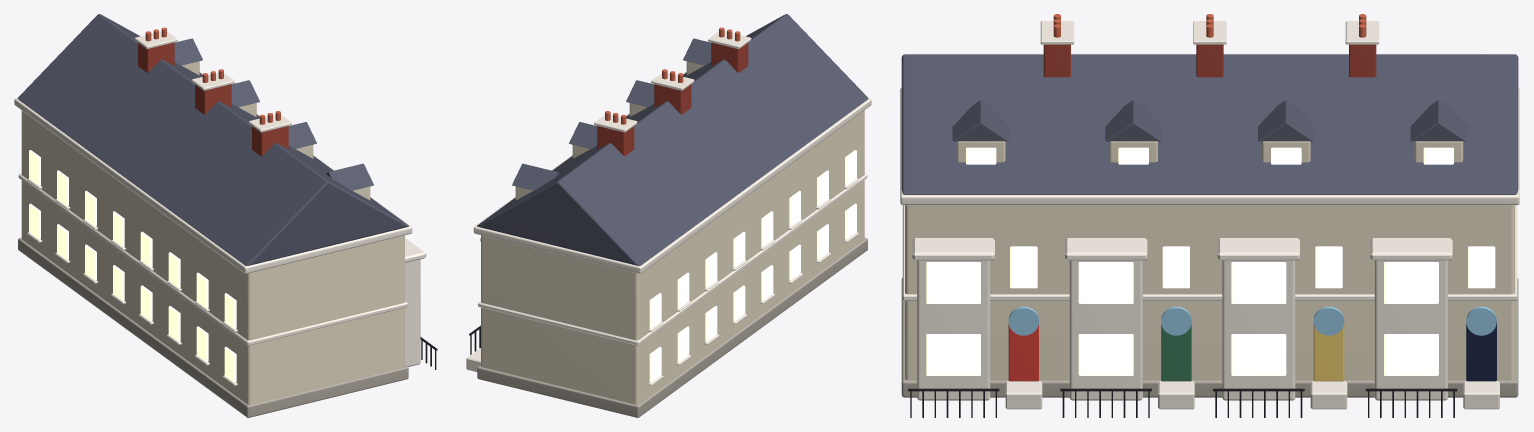
Rendered from townhouse_row_b.glb.
3 views of the same model, side by side, from view 1: azimuth 30°, elevation 25°; view 2: azimuth 150°, elevation 25°; view 3: azimuth 270°, elevation 25° (orthographic). The views are drawn at different scales.
Visible parts, largest first — view 1: townhouse_row_b; view 2: townhouse_row_b; view 3: townhouse_row_b.
Part boxes in pixels (x1=…): townhouse_row_b: x1=14, y1=14, x2=437, y2=417; townhouse_row_b: x1=466, y1=14, x2=871, y2=417; townhouse_row_b: x1=900, y1=14, x2=1519, y2=417.
Size of the model in its own units: 9.89 by 11.75 by 20.3.
1 material, 1 textured.
